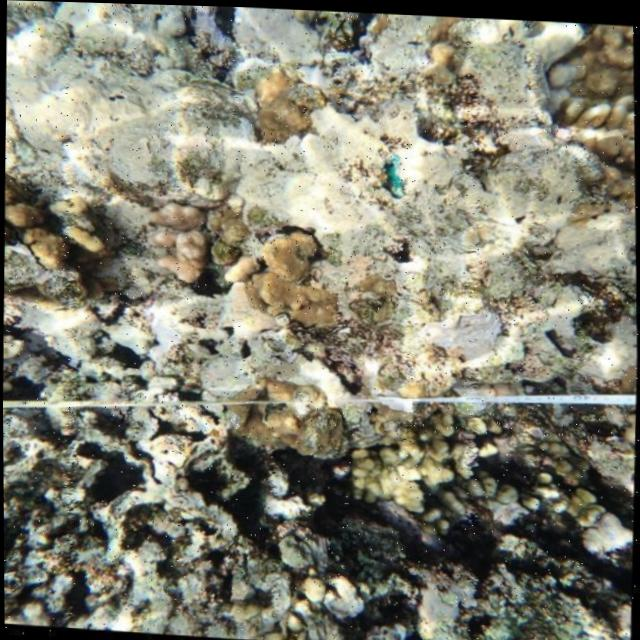Bleached Coral: (231, 74, 639, 285), (2, 0, 248, 202), (391, 278, 543, 383), (100, 263, 220, 378)
